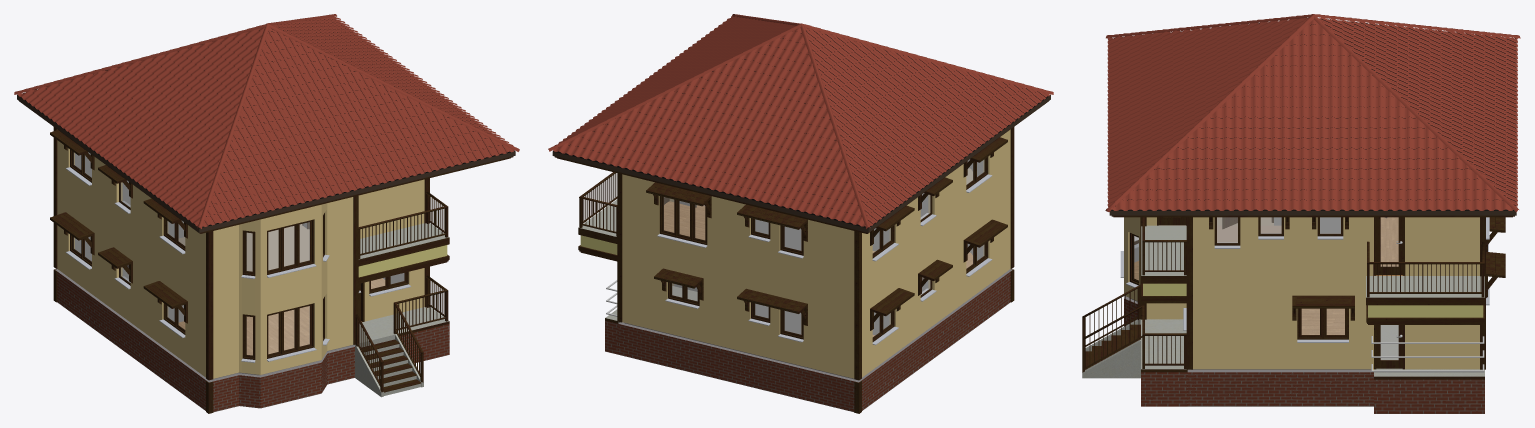
Rendered from realistic_house_with_interior.glb.
3 views of the same model, side by side, from view 1: azimuth 30°, elevation 25°; view 2: azimuth 150°, elevation 25°; view 3: azimuth 270°, elevation 25° (orthographic). The views are drawn at different scales.
Visible parts, largest first — view 1: Plane.019_90, walls.001_95, walls_94, roof_91, walls.003_96, Cube.012_3, Plane.015_86, Window.019_114, Window_97, Cube.021_4, Stairs.003_92, Plane_71 (+10 smaller); view 2: Plane.019_90, walls.001_95, walls_94, roof_91, walls.003_96, Window.013_108, Cube.026_5, Plane.011_82, Plane.018_89, Window.018_113, Window.006_101, Window.008_103 (+5 smaller); view 3: Plane.019_90, walls.001_95, walls_94, roof_91, Plane.016_87, Plane.015_86, Plane.018_89, Cube.012_3, walls.003_96, Cube.026_5, Window.009_104, Door.006_12 (+12 smaller).
Boxes of the visible parts, bbox=[...] form: Plane.019_90: bbox=[14, 14, 519, 228]; walls.001_95: bbox=[55, 185, 424, 412]; walls_94: bbox=[53, 127, 449, 413]; roof_91: bbox=[17, 19, 515, 233]; walls.003_96: bbox=[50, 130, 187, 323]; Cube.012_3: bbox=[355, 275, 448, 392]; Plane.015_86: bbox=[359, 307, 449, 362]; Window.019_114: bbox=[267, 219, 316, 277]; Window_97: bbox=[267, 303, 316, 361]; Cube.021_4: bbox=[358, 192, 448, 258]; Stairs.003_92: bbox=[361, 339, 421, 395]; Plane_71: bbox=[178, 278, 385, 355]; Plane.019_90: bbox=[548, 14, 1053, 228]; walls.001_95: bbox=[618, 185, 1012, 411]; walls_94: bbox=[578, 127, 1014, 413]; roof_91: bbox=[552, 30, 1050, 233]; walls.003_96: bbox=[646, 137, 1007, 330]; Window.013_108: bbox=[657, 196, 707, 247]; Cube.026_5: bbox=[579, 172, 617, 236]; Plane.011_82: bbox=[664, 201, 705, 239]; Plane.018_89: bbox=[578, 235, 617, 261]; Window.018_113: bbox=[778, 225, 803, 258]; Window.006_101: bbox=[778, 309, 803, 342]; Window.008_103: bbox=[665, 282, 699, 308]; Plane.019_90: bbox=[1105, 14, 1520, 212]; walls.001_95: bbox=[1124, 217, 1479, 406]; walls_94: bbox=[1140, 217, 1485, 369]; roof_91: bbox=[1109, 19, 1516, 217]; Plane.016_87: bbox=[1374, 369, 1484, 413]; Plane.015_86: bbox=[1141, 319, 1187, 406]; Plane.018_89: bbox=[1141, 283, 1484, 324]; Cube.012_3: bbox=[1082, 285, 1186, 372]; walls.003_96: bbox=[1209, 217, 1505, 320]; Cube.026_5: bbox=[1367, 241, 1484, 297]; Window.009_104: bbox=[1297, 308, 1348, 342]; Door.006_12: bbox=[1376, 217, 1402, 274].
Size of the model in its own units: 8.27 by 7.34 by 8.71.
Materials: 17 (5 with a texture image).
